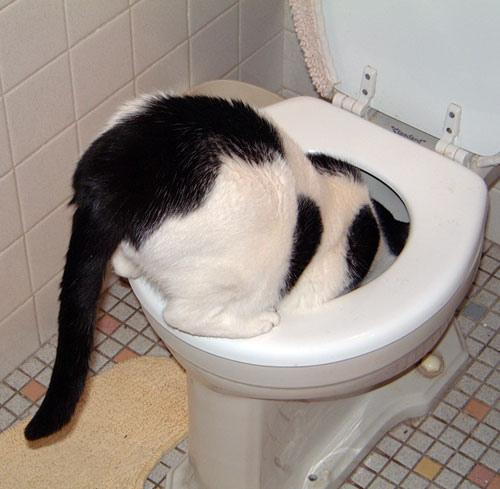Otro Obstaculo: (5, 84, 435, 454)
Sanitario: (105, 0, 499, 488)
